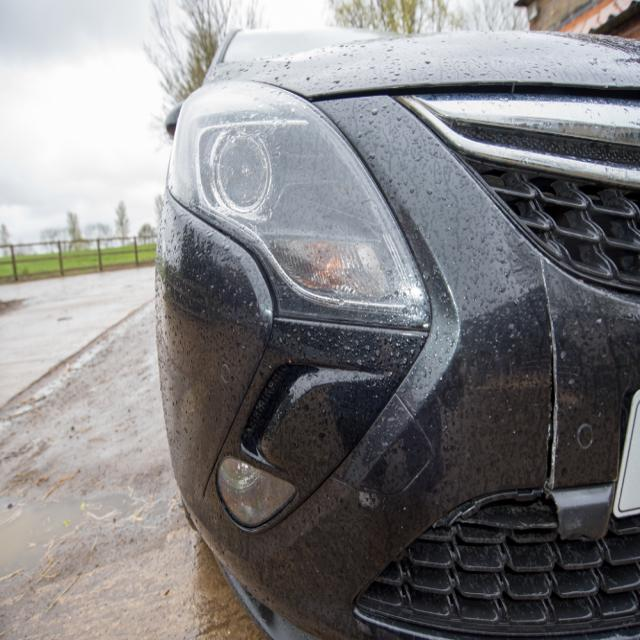crack: (538, 255, 558, 491)
